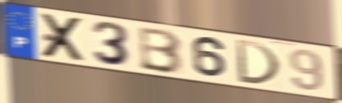3: (91, 21, 133, 68)
6: (191, 36, 229, 79)
9: (288, 48, 326, 93)
B: (138, 25, 185, 75)
D: (233, 38, 283, 87)
X: (40, 12, 88, 63)
